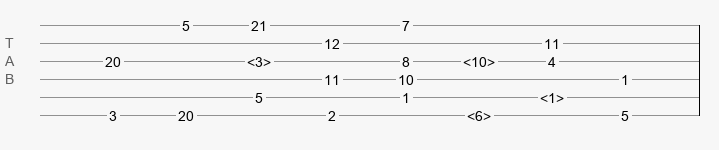1: (402, 90, 410, 100), (621, 72, 629, 82)
10: (398, 72, 414, 82)
11: (324, 72, 340, 82), (544, 36, 560, 46)
12: (324, 36, 340, 46)
2: (328, 108, 336, 118)
20: (105, 54, 121, 64), (178, 108, 194, 118)
21: (251, 18, 267, 28)
3: (109, 108, 117, 118)
4: (548, 54, 556, 64)
5: (182, 18, 190, 28), (255, 90, 263, 100), (621, 108, 629, 118)
7: (402, 18, 410, 28)
8: (402, 54, 410, 64)
harmonic: (463, 54, 495, 64), (247, 54, 271, 64), (467, 108, 491, 118), (540, 90, 564, 100)
